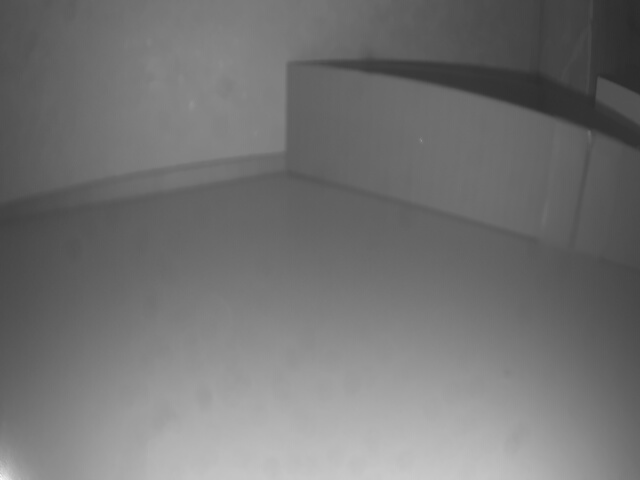Point: (281, 60, 640, 266)
